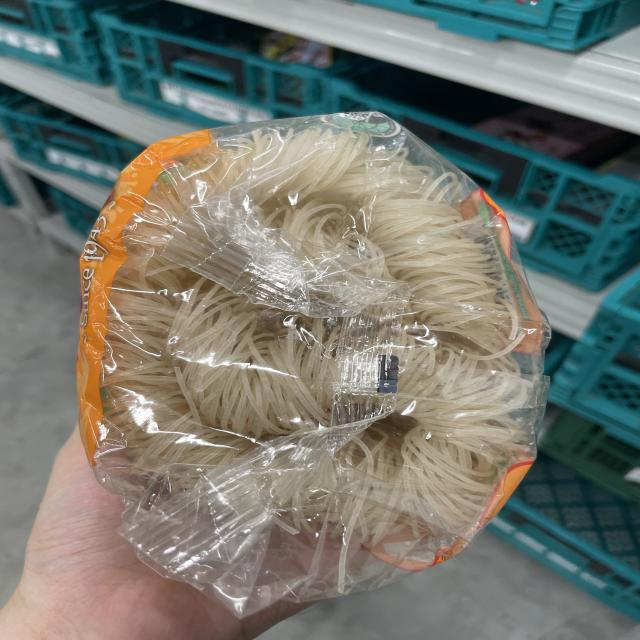object_name: (123, 146, 489, 573)
